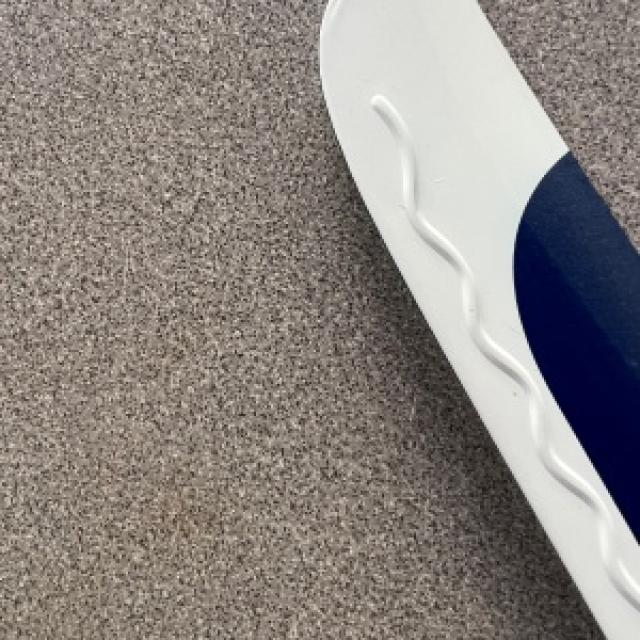healthy: (320, 0, 638, 638)
